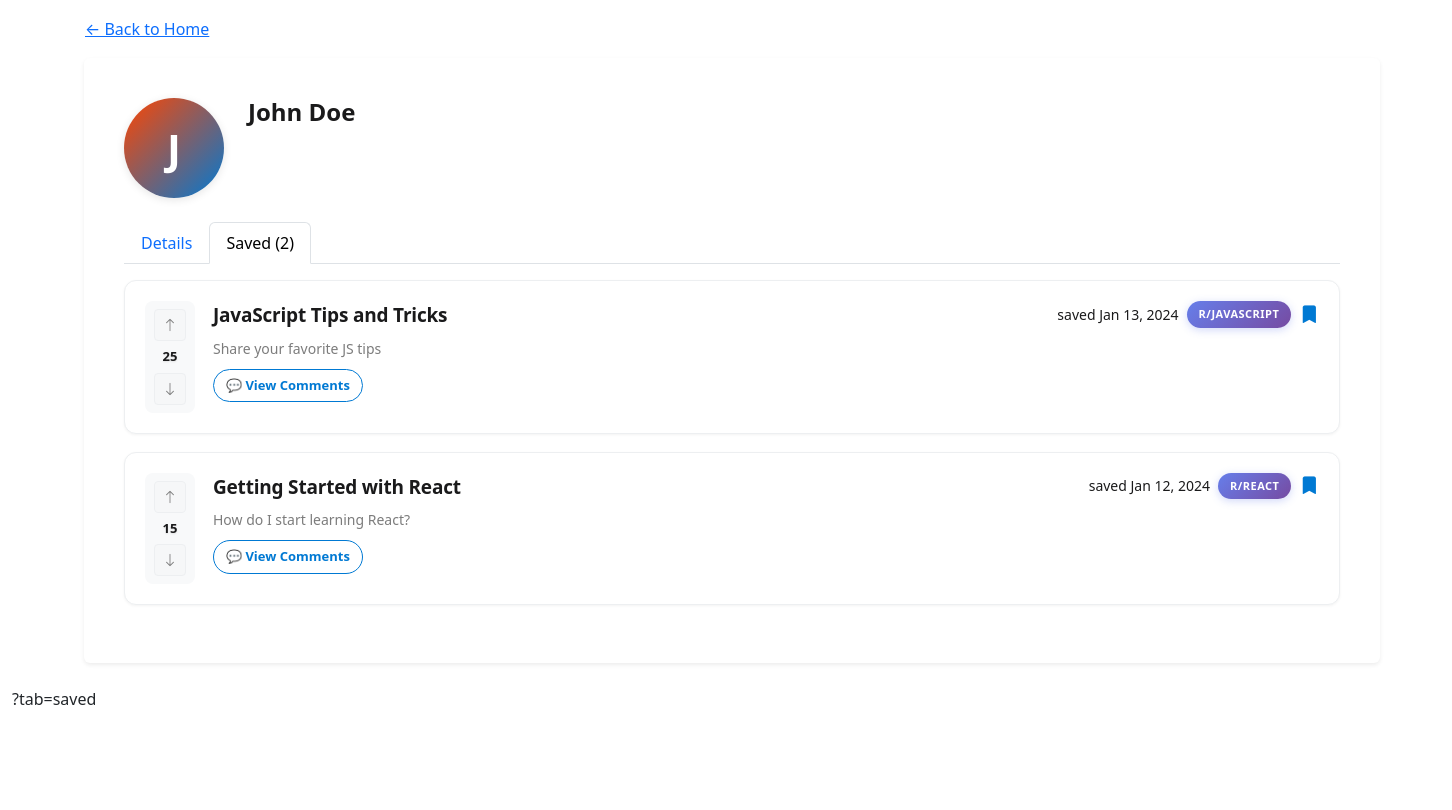
Profile Saved tab › removes an unsaved thread from the list and the count right away
Expected: the heading "JavaScript Tips and Tricks" is shown, [213,301,447,330]
Click the button named "Unsave thread" in the row of "Jan 13, 2024": (1309, 314) [1299,304,1319,324]
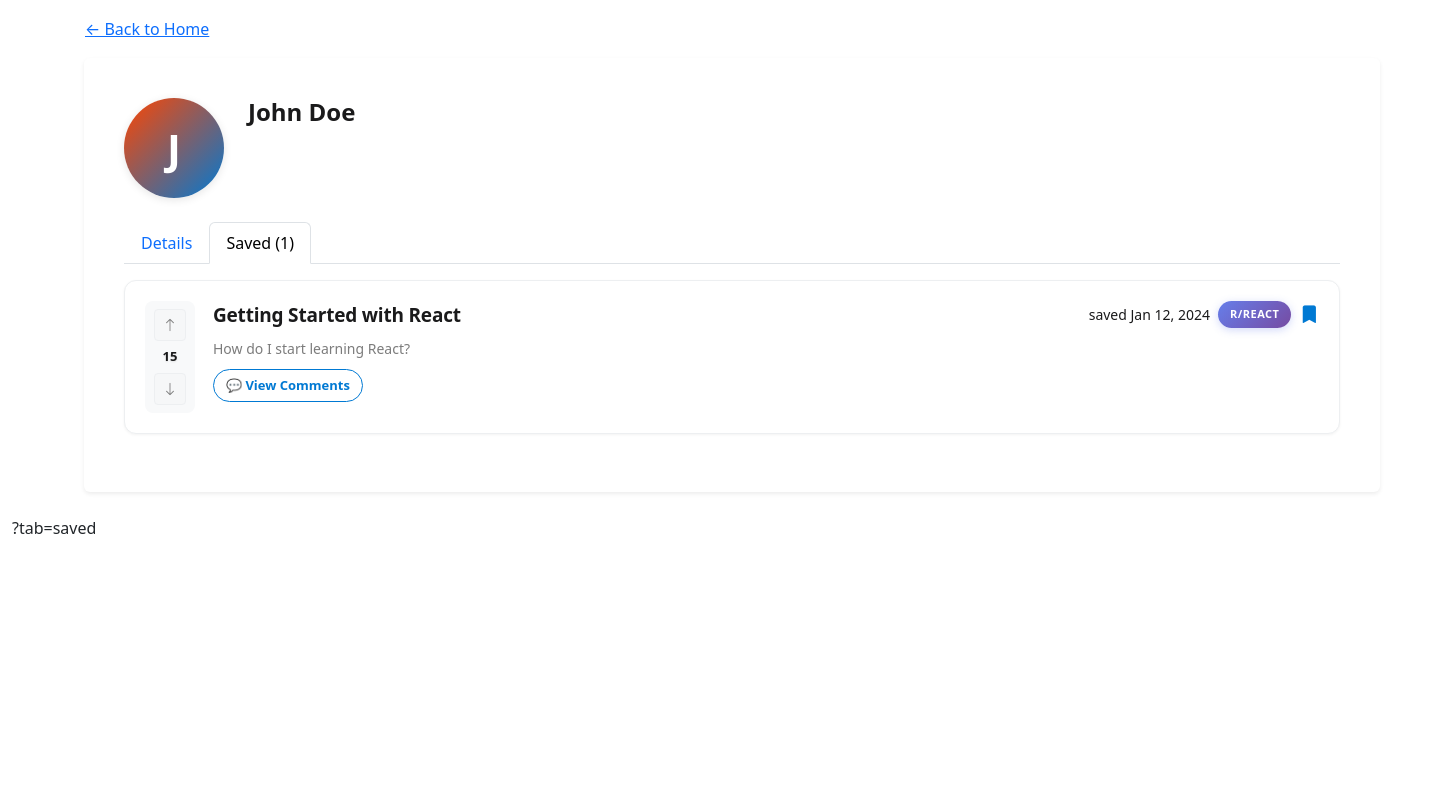
Result: the heading "JavaScript Tips and Tricks" is gone
Result: the tab "Saved (1)" is shown at [209,222,311,264]
